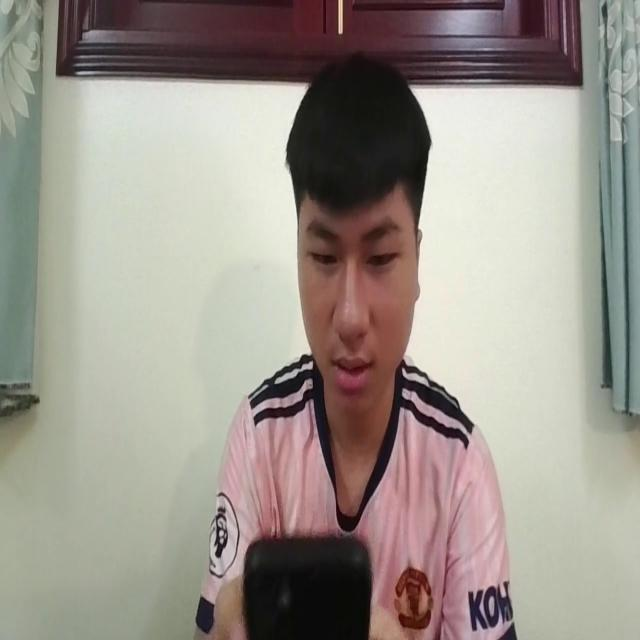phone: (241, 526, 373, 640)
student: (184, 46, 514, 640)
